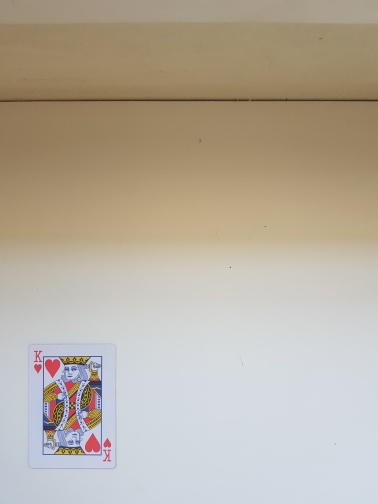king: (28, 343, 118, 469)
